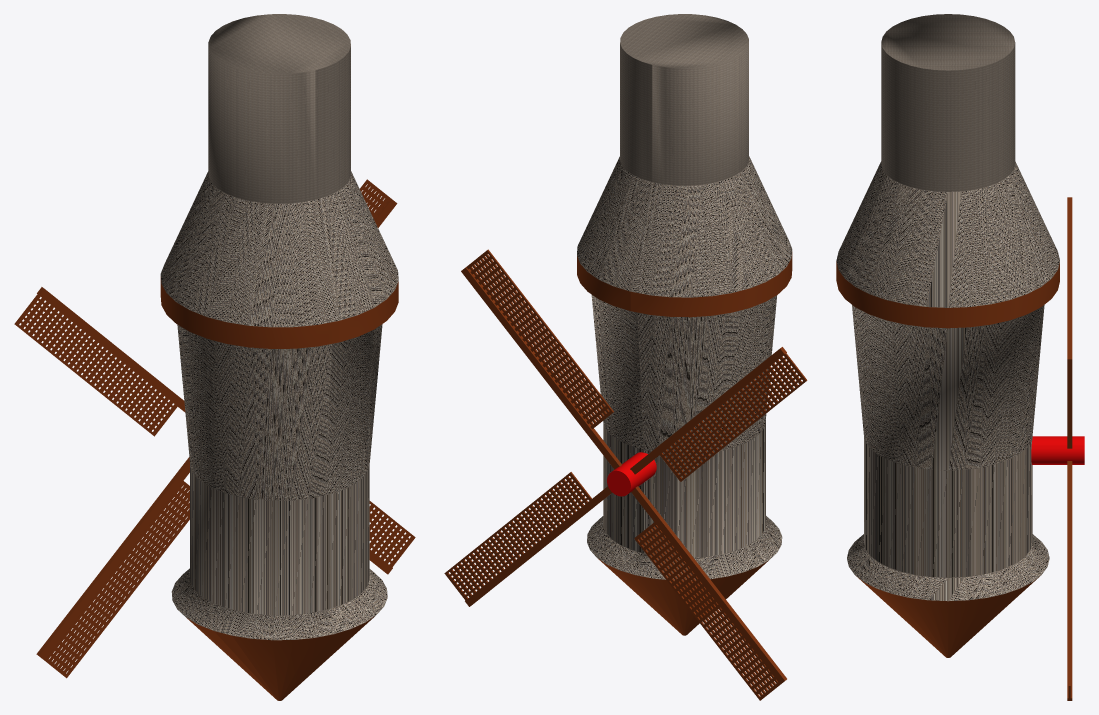
File: molen.gltf
The picture shows the model from 3 angles, left to right: view 1: azimuth 30°, elevation 25°; view 2: azimuth 150°, elevation 25°; view 3: azimuth 270°, elevation 25°; orthographic projection. The views are drawn at different scales.
Visible parts, largest first — view 1: Cube.005; view 2: Cube.005; view 3: Cube.005.
Boxes of the visible parts, x1,y1,x2,y2 form: Cube.005: (14, 14, 415, 700); Cube.005: (444, 14, 807, 700); Cube.005: (836, 14, 1084, 700).
Size of the model in its own units: 7.7 by 12.05 by 4.41.
3 materials, 1 textured.
